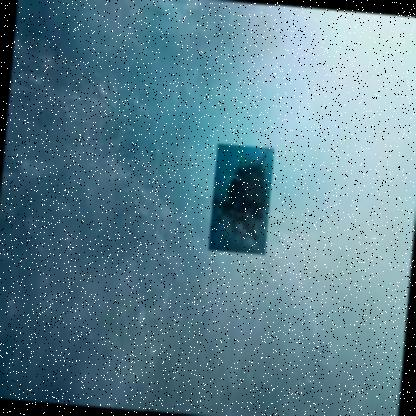mako-shark: (209, 144, 276, 257)
